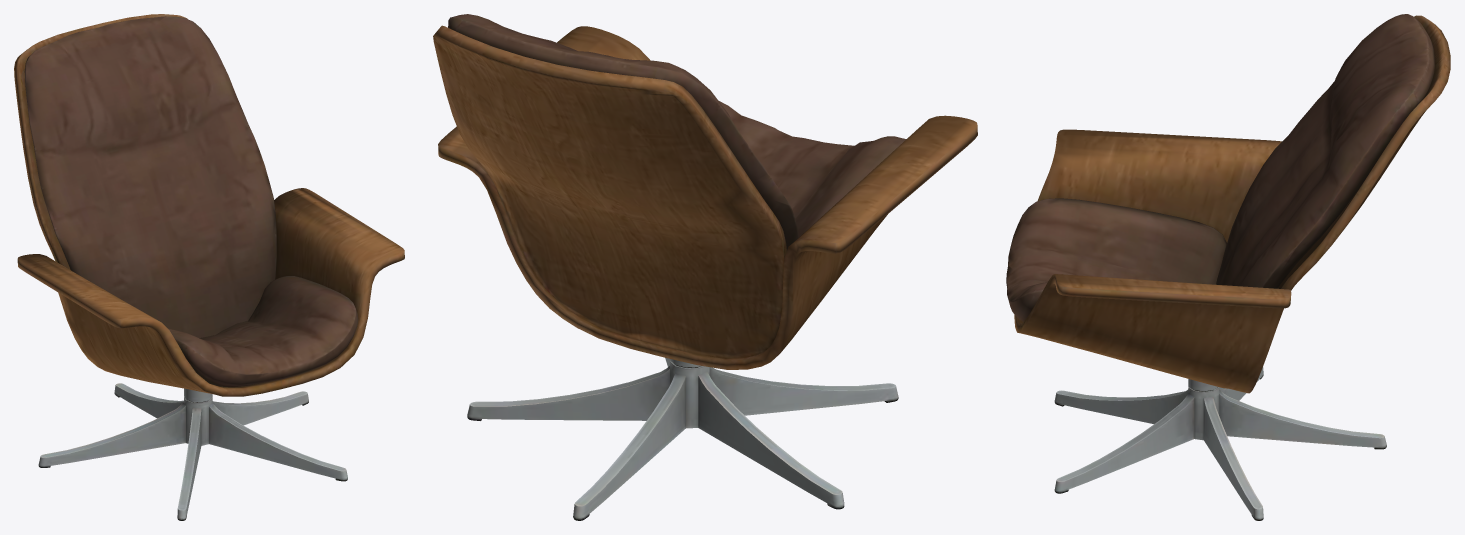
Rendered from chair_lounge.glb.
3 renders of one model, left to right at view 1: azimuth 30°, elevation 25°; view 2: azimuth 150°, elevation 25°; view 3: azimuth 270°, elevation 25°, orthographic. The views are drawn at different scales.
Visible parts, largest first — view 1: mid_century_lounge_chair; view 2: mid_century_lounge_chair; view 3: mid_century_lounge_chair.
Boxes of the visible parts, x1,y1,x2,y2 form: mid_century_lounge_chair: [14, 14, 404, 520]; mid_century_lounge_chair: [433, 14, 977, 520]; mid_century_lounge_chair: [1006, 14, 1450, 520].
Size of the model in its own units: 1.01 by 1.17 by 1.19.
Materials: 1 (1 with a texture image).
